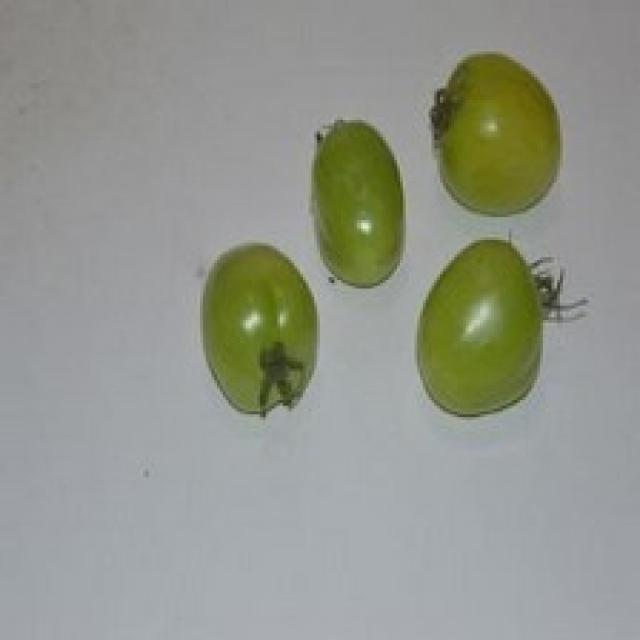yesil: (148, 50, 598, 430)
